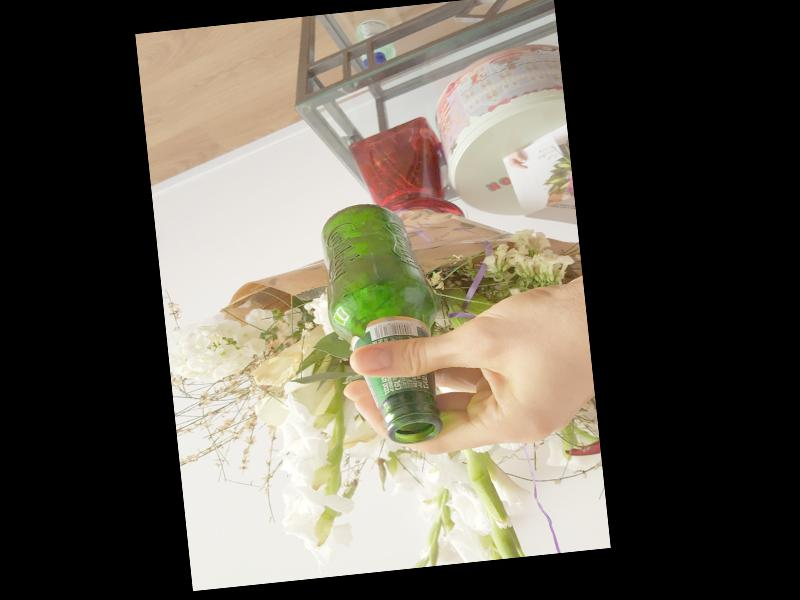Beer: (316, 196, 449, 449)
